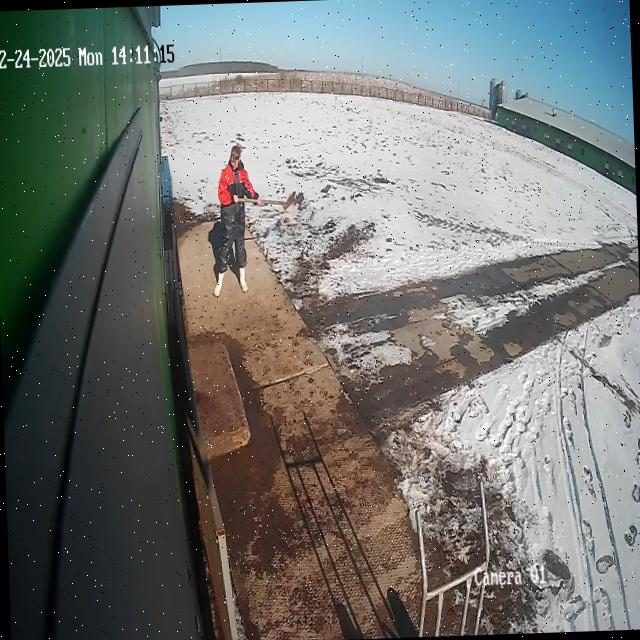Red uniform: (204, 142, 264, 300)
